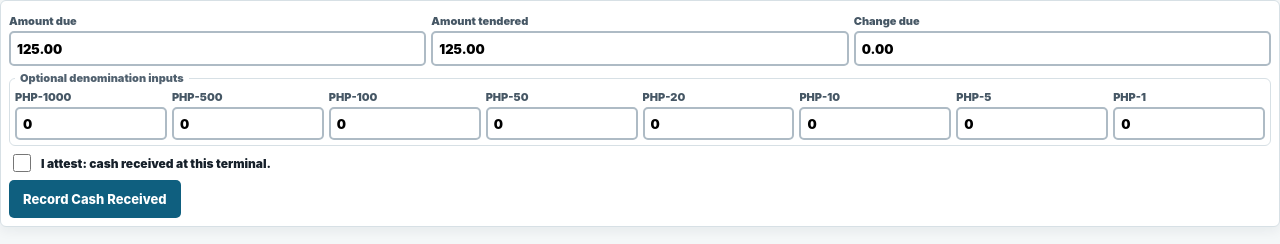
CashCapturePanel › calculates and displays change due
Step 1. Replace the text in the field labelled "Amount tendered" with "150" → [640, 48], box x1=431 y1=31 x2=849 y2=66
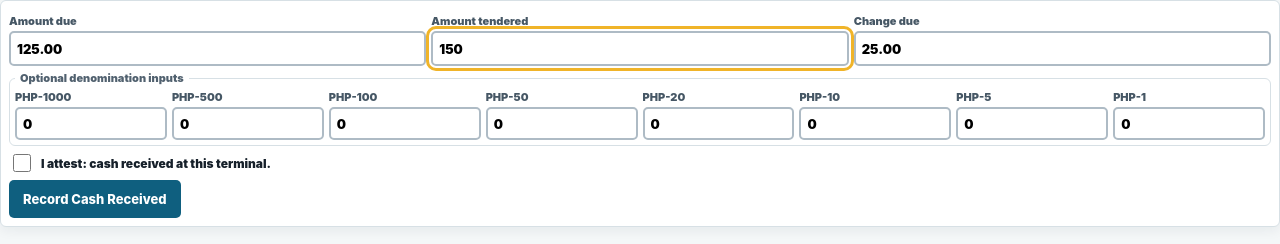
Expected: the field labelled "Change due" holds "25.00", x1=854 y1=31 x2=1271 y2=66
